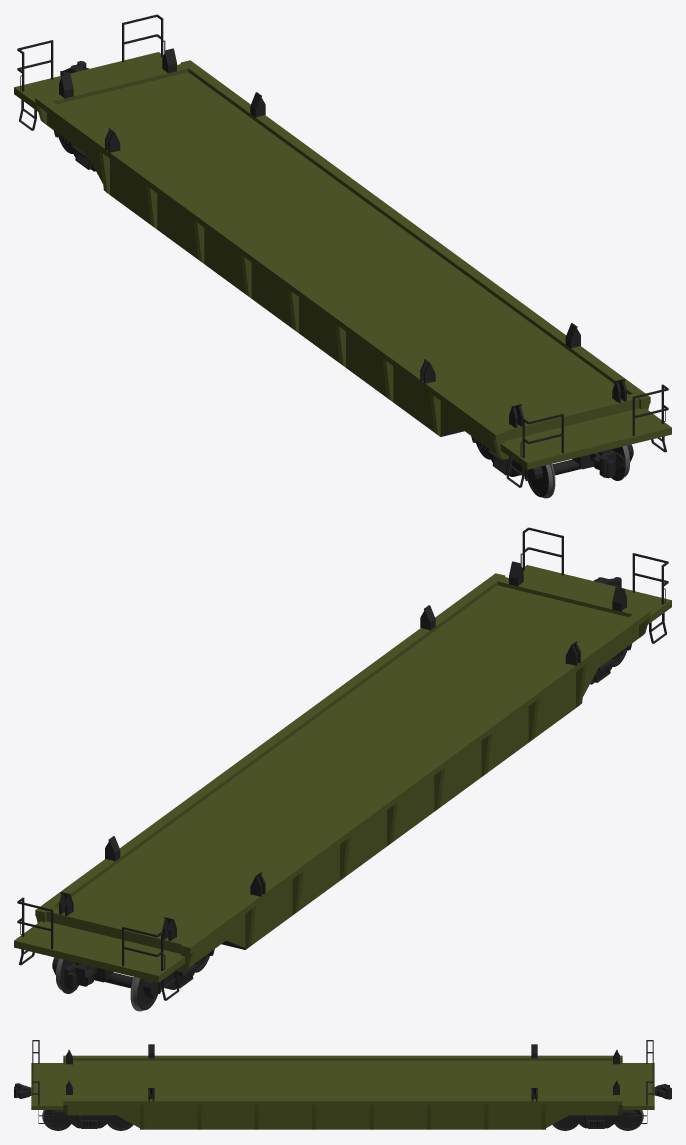
Rendered from train_flat_car.glb.
3 renders of one model, top to bottom at view 1: azimuth 30°, elevation 25°; view 2: azimuth 150°, elevation 25°; view 3: azimuth 270°, elevation 25°, orthographic. The views are drawn at different scales.
Parts seen in each view (by area): view 1: flatCar_0, wheel_2, wheelHolder_1; view 2: flatCar_0, wheel_2, wheelHolder_1; view 3: flatCar_0, wheelHolder_1, wheel_2.
Part boxes in pixels (x1,y1,x2,y2): flatCar_0: (14,14,671,487); wheel_2: (58,134,629,498); wheelHolder_1: (53,130,633,485); flatCar_0: (14,527,671,1000); wheel_2: (56,647,627,1011); wheelHolder_1: (52,643,632,998); flatCar_0: (14,1040,671,1129); wheelHolder_1: (49,1110,636,1128); wheel_2: (42,1110,643,1130).
Size of the model in its own units: 3.05 by 1.82 by 18.34.
